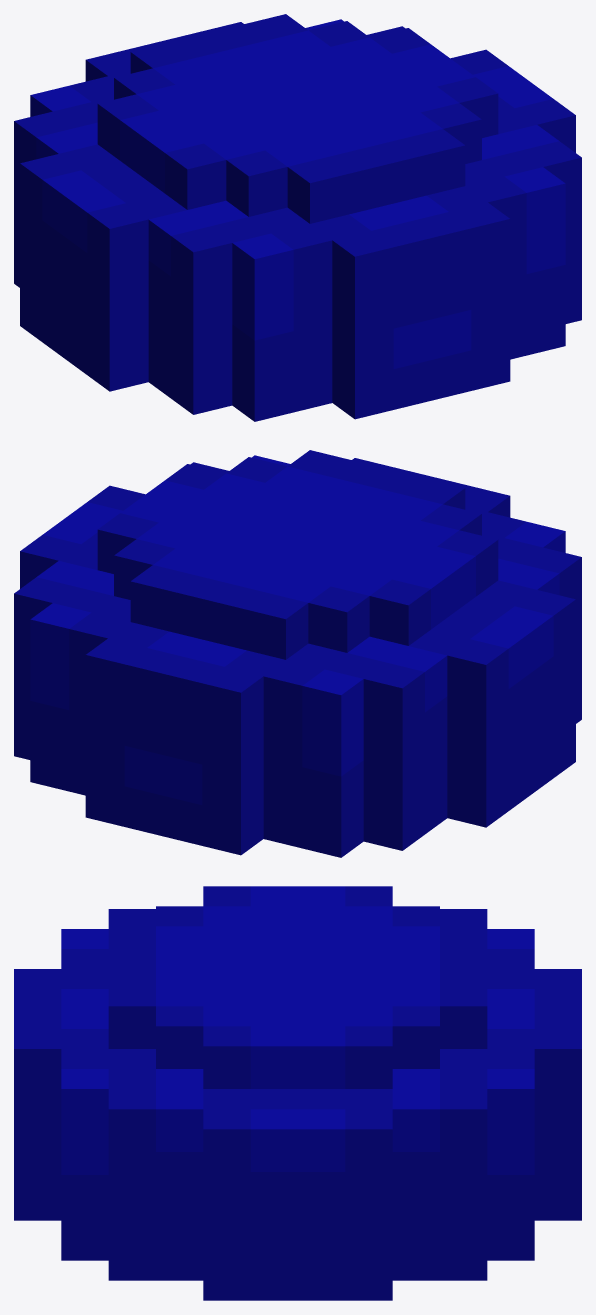
File: BlueSimon.obj
3 renders of one model, top to bottom at view 1: azimuth 30°, elevation 25°; view 2: azimuth 150°, elevation 25°; view 3: azimuth 270°, elevation 25°, orthographic. The views are drawn at different scales.
Size of the model in its own units: 1.2 by 0.5 by 1.2.
Materials: 1 (1 with a texture image).
